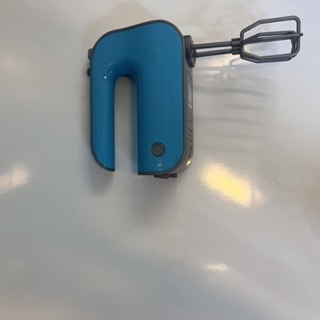mixer: (86, 14, 302, 178)
